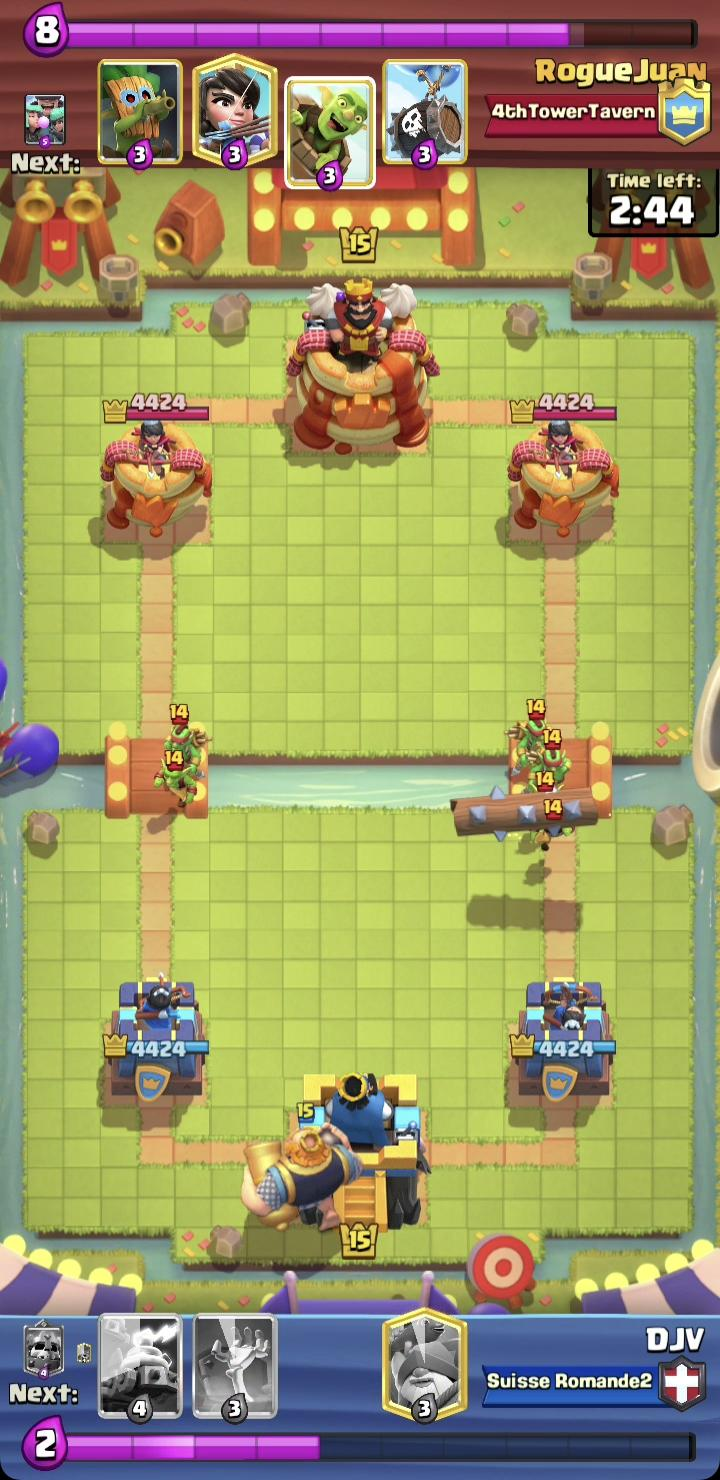ally_goblindrill: (23, 97, 64, 159)
ally_log: (448, 783, 599, 844)
ally_royale_giant: (241, 1102, 366, 1233)
enemy_goblin: (154, 749, 200, 809), (535, 800, 577, 852), (527, 770, 563, 821)
enemy_spear_goblin: (504, 698, 551, 769), (164, 703, 212, 766), (529, 728, 572, 798)
